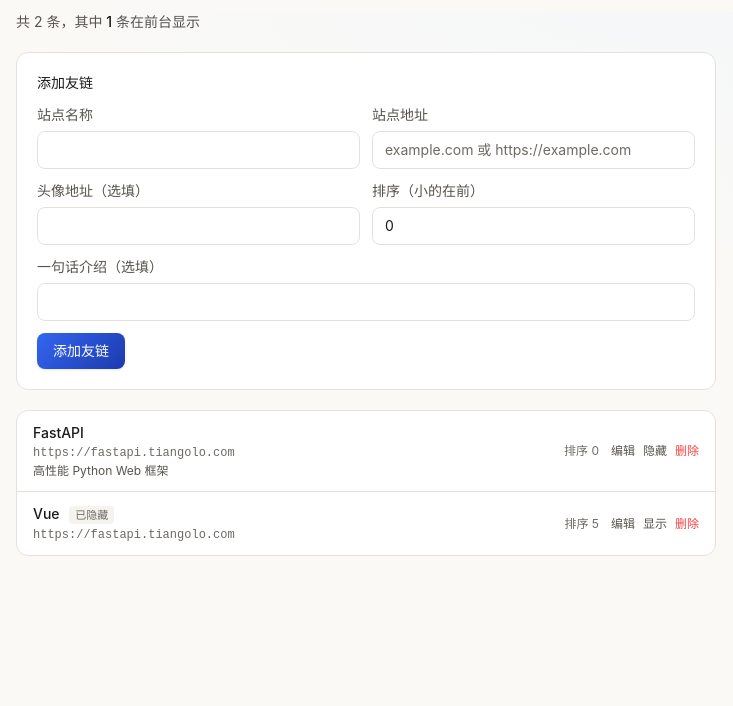
LinksView（后台） · 编辑与启停 › 点「编辑」只把那一行换成输入框并回填（空描述回填空串）
The image size is (733, 706).
Click the button "编辑" next to "排序 5" at (623, 524), box [611, 516, 635, 532]
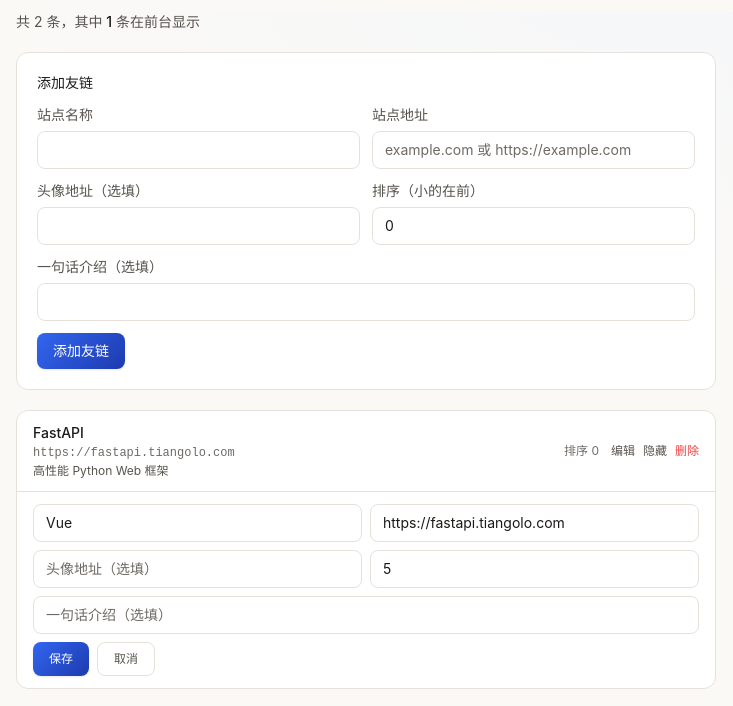
Now the field named "编辑站点名称" holds "Vue", box [33, 504, 362, 542]
Now the field named "编辑站点地址" holds "https://fastapi.tiangolo.com", box [370, 504, 699, 542]
Now the field named "编辑介绍" is empty, box [33, 596, 699, 634]
